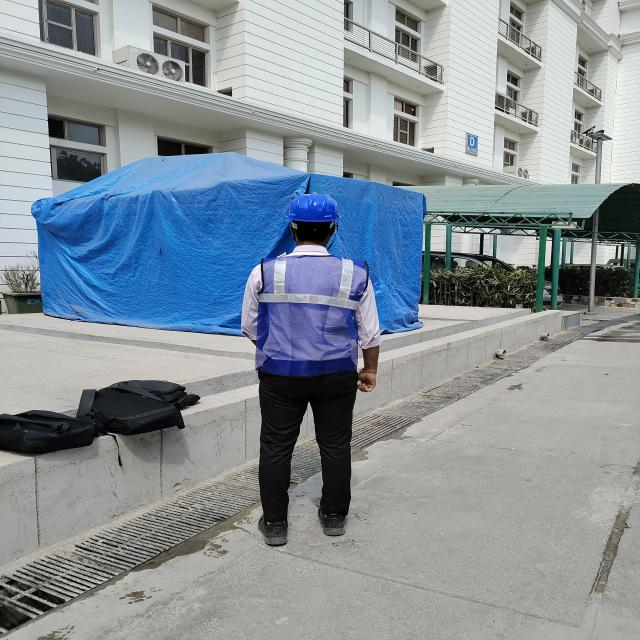safe: (242, 196, 380, 545)
